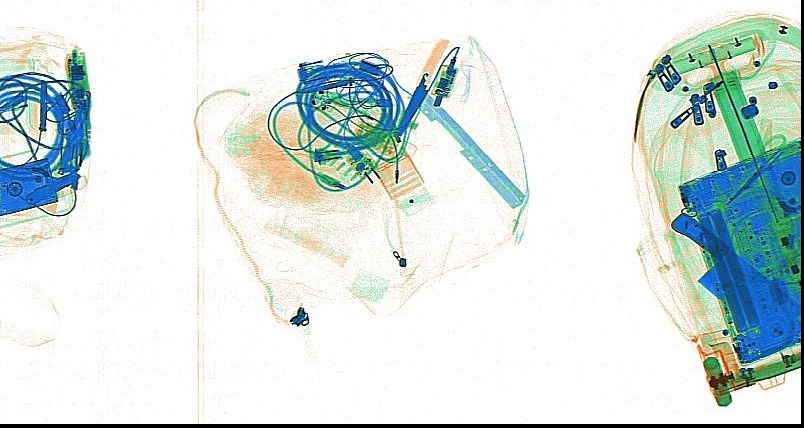knife: (670, 212, 799, 342), (396, 38, 449, 135), (25, 172, 86, 205), (297, 77, 354, 93)
scissors: (724, 133, 799, 204)
